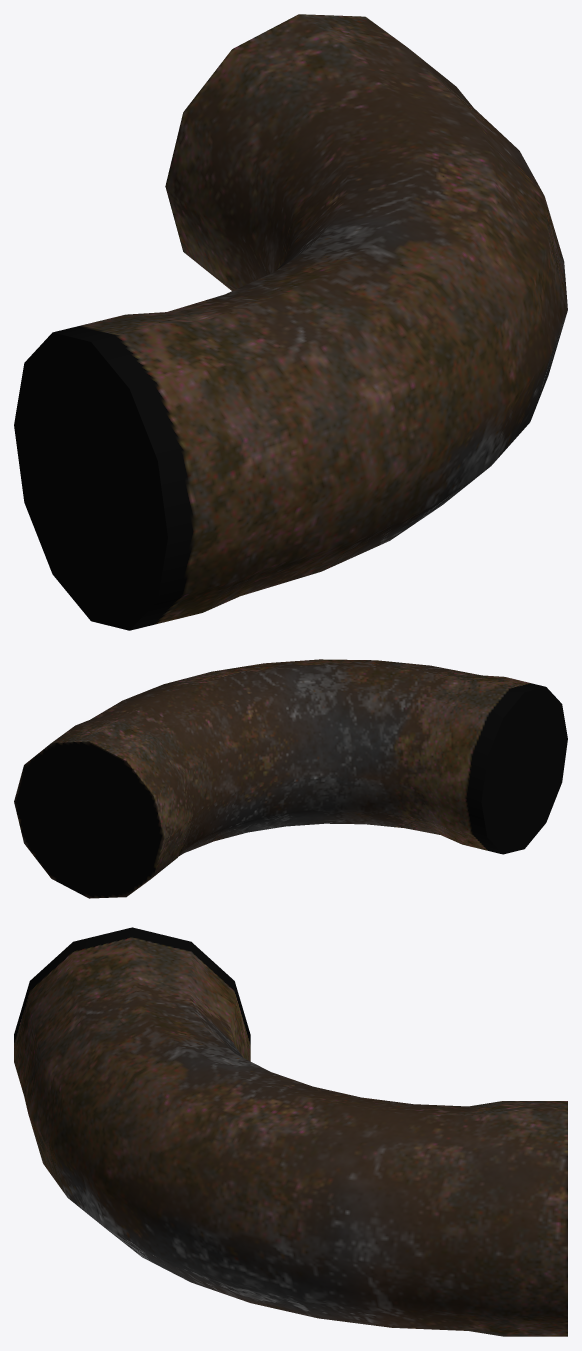
File: NM_BigTube_02.fbx
The picture shows the model from 3 angles, top to bottom: view 1: azimuth 30°, elevation 25°; view 2: azimuth 150°, elevation 25°; view 3: azimuth 270°, elevation 25°; orthographic projection. The views are drawn at different scales.
Parts seen in each view (by area): view 1: BigTube_05_low005; view 2: BigTube_05_low005; view 3: BigTube_05_low005.
Part boxes in pixels (left/top/right/bottom): BigTube_05_low005: left=14, top=14, right=567, bottom=630; BigTube_05_low005: left=14, top=659, right=567, bottom=898; BigTube_05_low005: left=14, top=927, right=567, bottom=1336.
Bounding box in the file's own units: 71.51 × 30.54 × 71.51.
